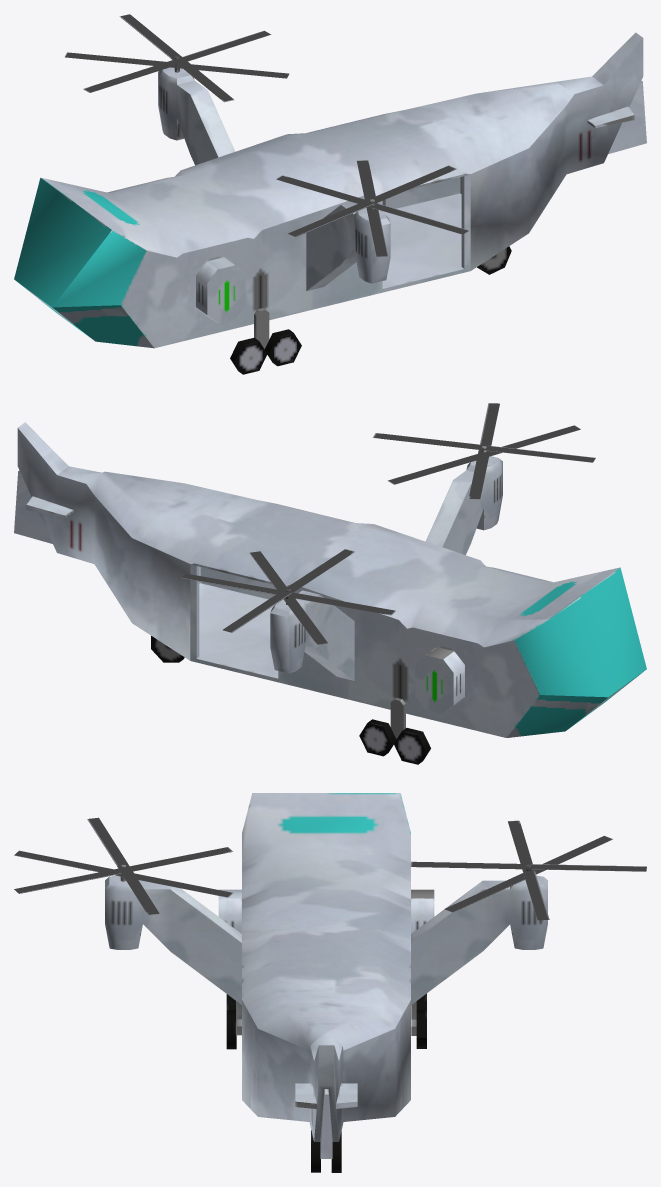
File: vertibird_T.glb
3 views of the same model, one above another, from view 1: azimuth 30°, elevation 25°; view 2: azimuth 150°, elevation 25°; view 3: azimuth 270°, elevation 25° (orthographic). The views are drawn at different scales.
Visible parts, largest first — view 1: Box001, Cylinder006, Cylinder005, Box002; view 2: Box001, Cylinder006, Cylinder005, Box003; view 3: Box001, Cylinder005, Cylinder006, Box002, Box003, Box004.
Part boxes in pixels (x1,y1,x2,y2): Box001: [14, 32, 646, 348]; Cylinder006: [65, 14, 289, 102]; Cylinder005: [276, 160, 468, 256]; Box002: [230, 308, 301, 374]; Box001: [14, 422, 646, 737]; Cylinder006: [182, 549, 395, 644]; Cylinder005: [372, 403, 595, 499]; Box003: [359, 698, 430, 764]; Box001: [105, 793, 547, 1158]; Cylinder005: [14, 817, 233, 915]; Cylinder006: [410, 820, 646, 920]; Box002: [226, 994, 241, 1049]; Box003: [411, 993, 426, 1048]; Box004: [311, 1130, 341, 1172].
Size of the model in its own units: 4.39 by 1.35 by 3.8.
Materials: 1 (1 with a texture image).
